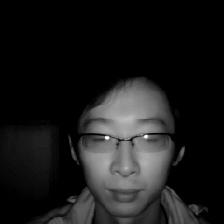normal: (71, 63, 188, 219)
